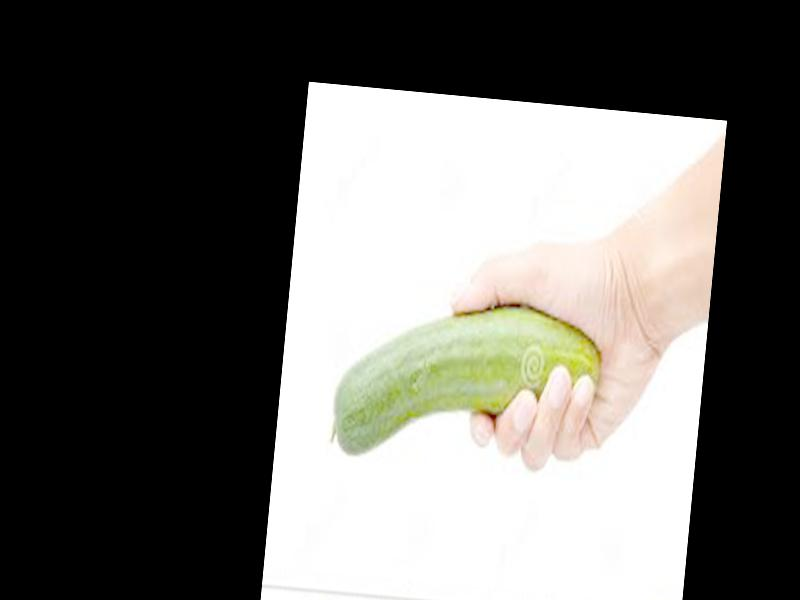Cucumber: (327, 295, 604, 478)
